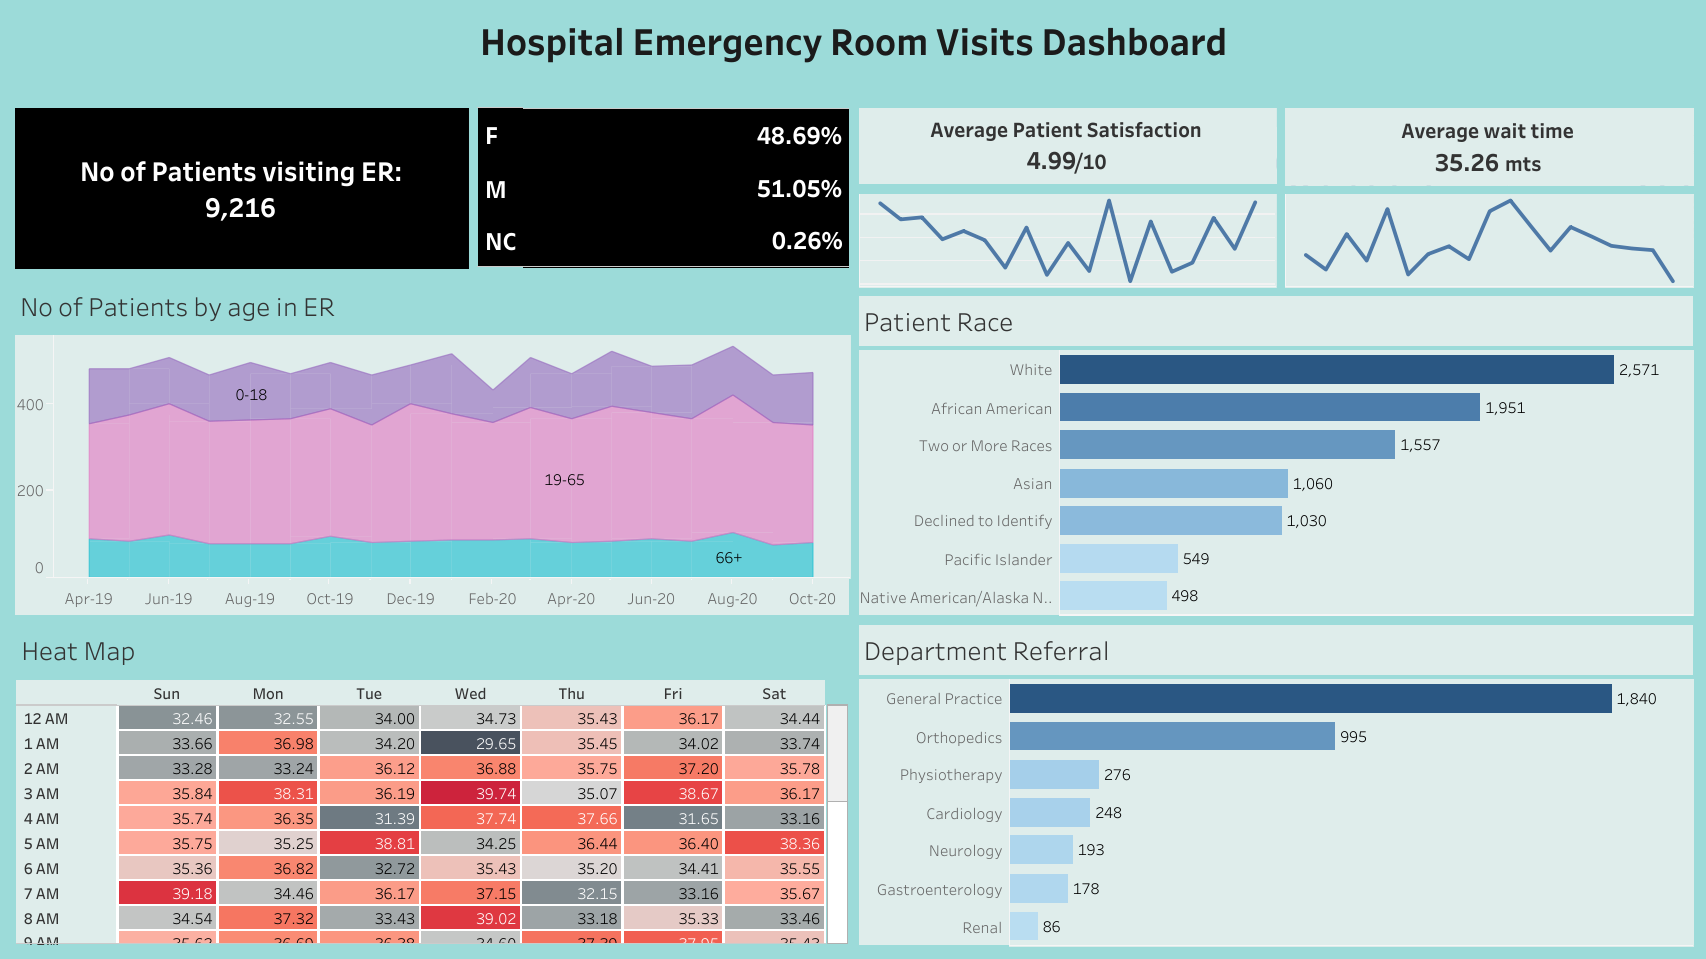

Layout of this report page (visuals, bound fields, positions):
{"tool":"tableau","page":{"name":"Dashboard 2","canvas":[1366,768],"ordinal":0},"visuals":[{"type":"text","box":[8,8,1350,58]},{"type":"worksheet","title":"No of Patients","mark":"Automatic","box":[8,82,370,136]},{"type":"worksheet","title":"Gender","mark":"Automatic","rows":["patient_gender"],"box":[378,82,305,136]},{"type":"worksheet","title":"Average Satisfaction","mark":"Automatic","box":[683,82,341,69]},{"type":"worksheet","title":"Average Wait time","mark":"Automatic","box":[1024,82,334,69]},{"type":"worksheet","title":"Patient Satisfaction","mark":"Automatic","rows":["patient_sat_score"],"cols":["date"],"box":[683,151,341,82]},{"type":"worksheet","title":"Wait time Average","mark":"Automatic","rows":["patient_waittime"],"cols":["date"],"box":[1024,151,334,82]},{"type":"worksheet","title":"No of Patients by age","mark":"Area","rows":["patient_id"],"cols":["date"],"box":[8,221,675,275.5]},{"type":"worksheet","title":"Patient Race","mark":"Automatic","rows":["patient_race"],"cols":["patient_id"],"box":[683,233,675,263.5]},{"type":"worksheet","title":"Heat Map","mark":"Square","rows":["date"],"cols":["date"],"box":[8,496.5,675,263.5]},{"type":"worksheet","title":"Department Referral","mark":"Automatic","rows":["department_referral"],"cols":["patient_id"],"box":[683,496.5,675,263.5]}]}

Visuals, with their boxes in screenshot pixels (x1, y1, x2, y2), scaled from the page's 1366x768 canvas onto the 1706x959 screenshot:
text: Rect(10, 10, 1696, 82)
"No of Patients" worksheet: Rect(10, 102, 472, 272)
"Gender" worksheet: Rect(472, 102, 853, 272)
"Average Satisfaction" worksheet: Rect(853, 102, 1279, 189)
"Average Wait time" worksheet: Rect(1279, 102, 1696, 189)
"Patient Satisfaction" worksheet: Rect(853, 189, 1279, 291)
"Wait time Average" worksheet: Rect(1279, 189, 1696, 291)
"No of Patients by age" worksheet (Area marks): Rect(10, 276, 853, 620)
"Patient Race" worksheet: Rect(853, 291, 1696, 620)
"Heat Map" worksheet (Square marks): Rect(10, 620, 853, 949)
"Department Referral" worksheet: Rect(853, 620, 1696, 949)
